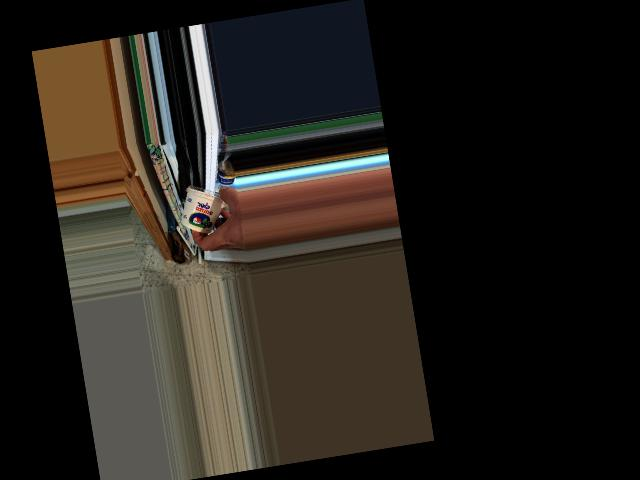cotage: (176, 179, 226, 235)
